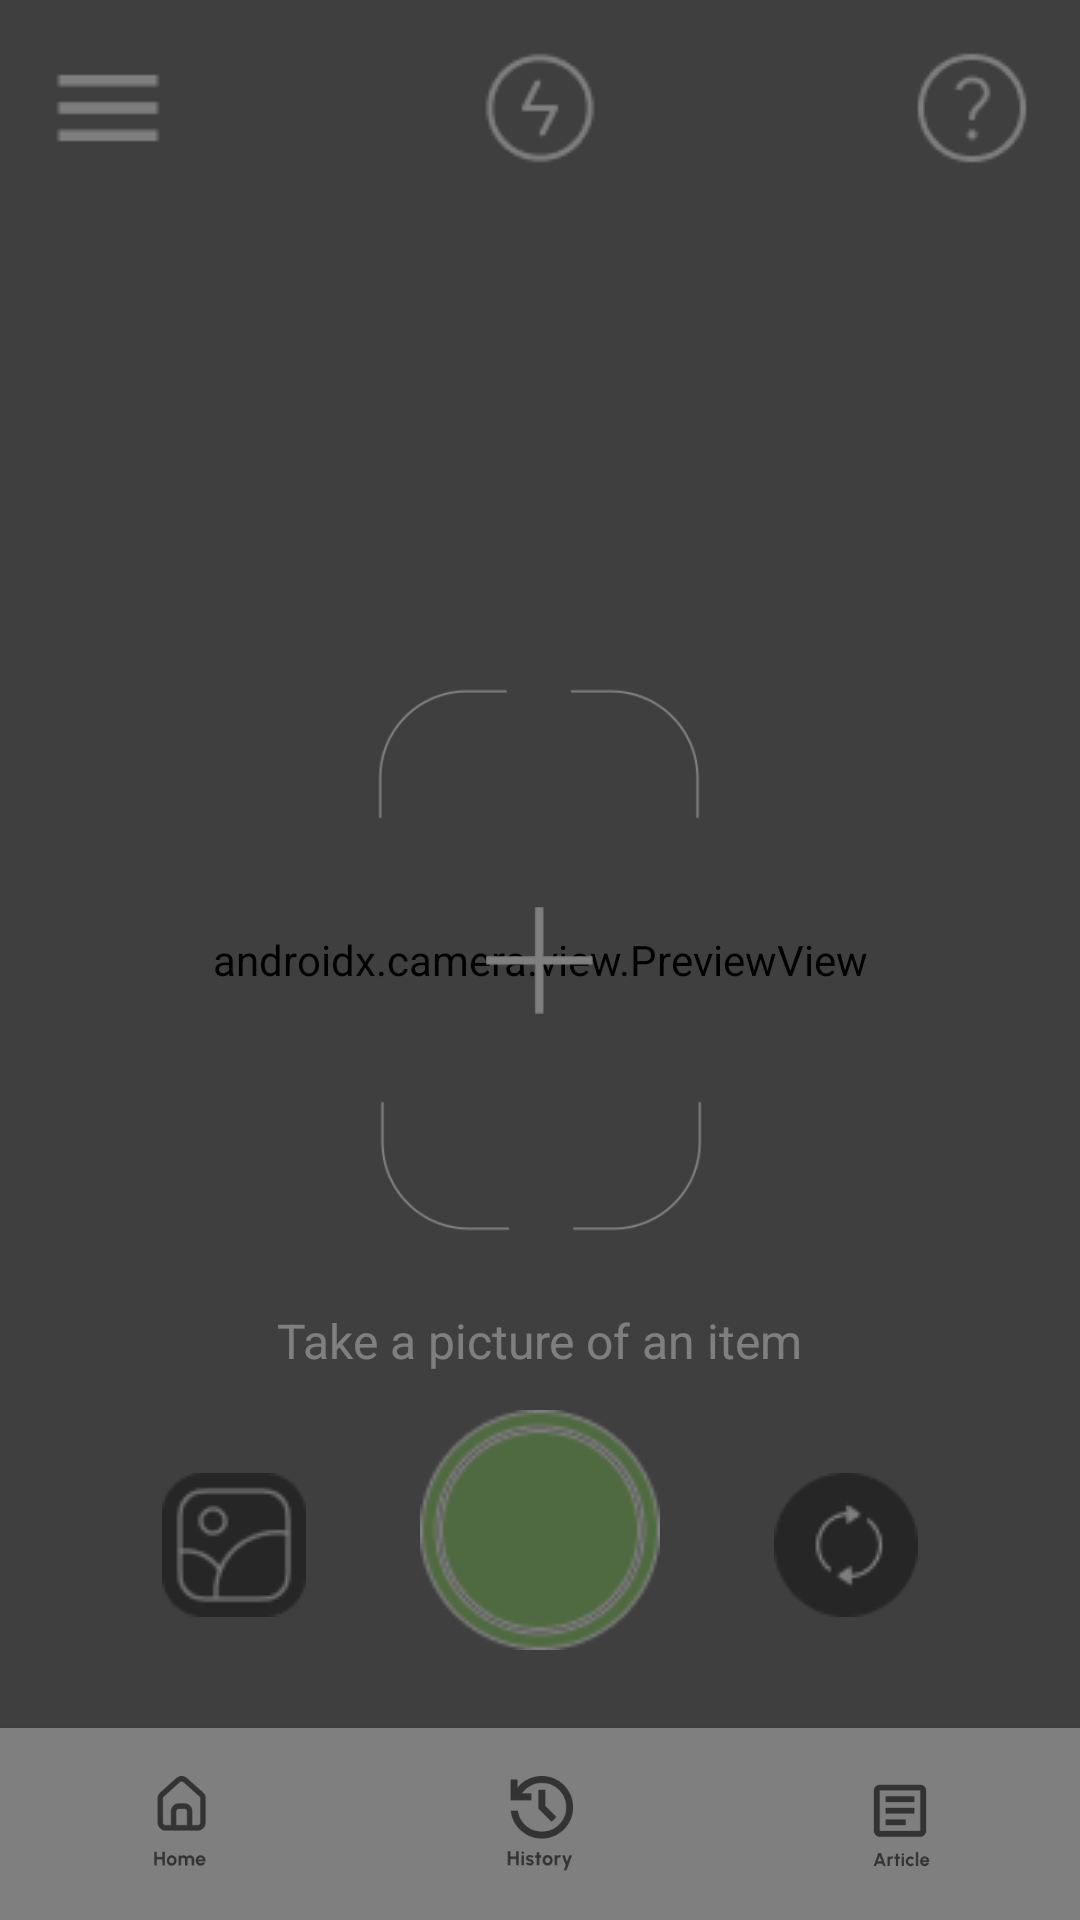

Named icons in this screenshot (1080*1920) and their centers, [x,y]:
flash on: [540,108]
help: [972,108]
menu: [108,108]
Open Gallery: [234,1545]
Switch Camera: [846,1545]
